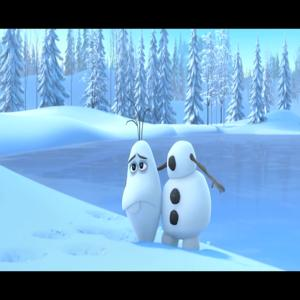olaf: (114, 99, 223, 252)
